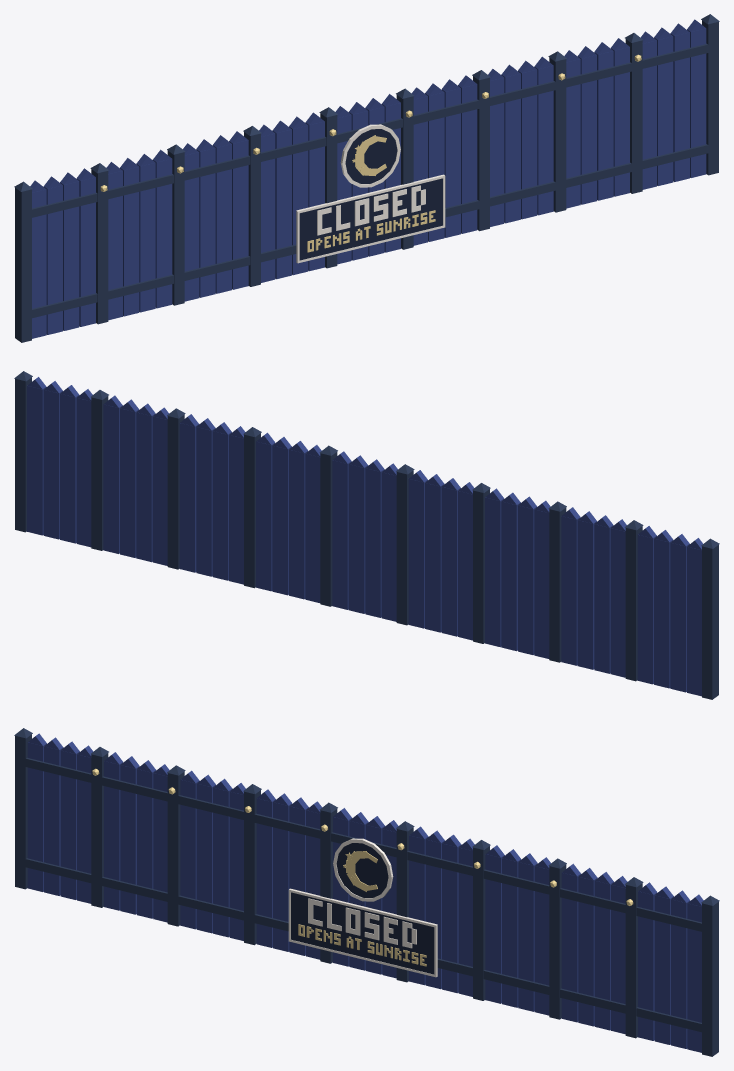
The model's file is CatCafe_Alley_NightFence.fbx.
3 views of the same model, one above another, from view 1: azimuth 30°, elevation 25°; view 2: azimuth 150°, elevation 25°; view 3: azimuth 330°, elevation 25° (orthographic).
Parts seen in each view (by area): view 1: CatCafe_Alley_NightFence, CatCafe_Alley_NightFence_Moon_Bulb; view 2: CatCafe_Alley_NightFence; view 3: CatCafe_Alley_NightFence, CatCafe_Alley_NightFence_Moon_Bulb.
Boxes of the visible parts, box(x1,y1,x2,y2) form: CatCafe_Alley_NightFence: box(14, 14, 719, 342); CatCafe_Alley_NightFence_Moon_Bulb: box(100, 54, 641, 252); CatCafe_Alley_NightFence: box(14, 371, 719, 699); CatCafe_Alley_NightFence: box(14, 728, 719, 1056); CatCafe_Alley_NightFence_Moon_Bulb: box(92, 768, 633, 966).
Size of the model in its own units: 40.06 by 8.64 by 0.9251.
1 material, 1 textured.
